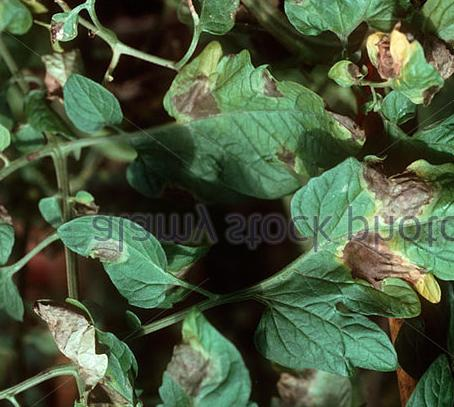Tomato leaf late blight: (249, 149, 454, 375), (123, 49, 369, 204), (53, 200, 181, 311), (20, 304, 151, 407), (329, 20, 453, 124)
